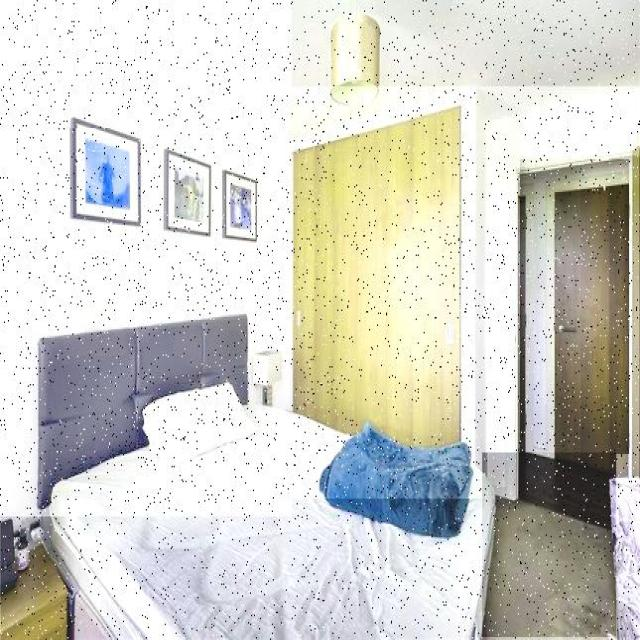Wall: (0, 0, 292, 516), (291, 87, 639, 499), (2, 129, 292, 515), (78, 0, 640, 138), (520, 160, 629, 454), (483, 454, 616, 637)
